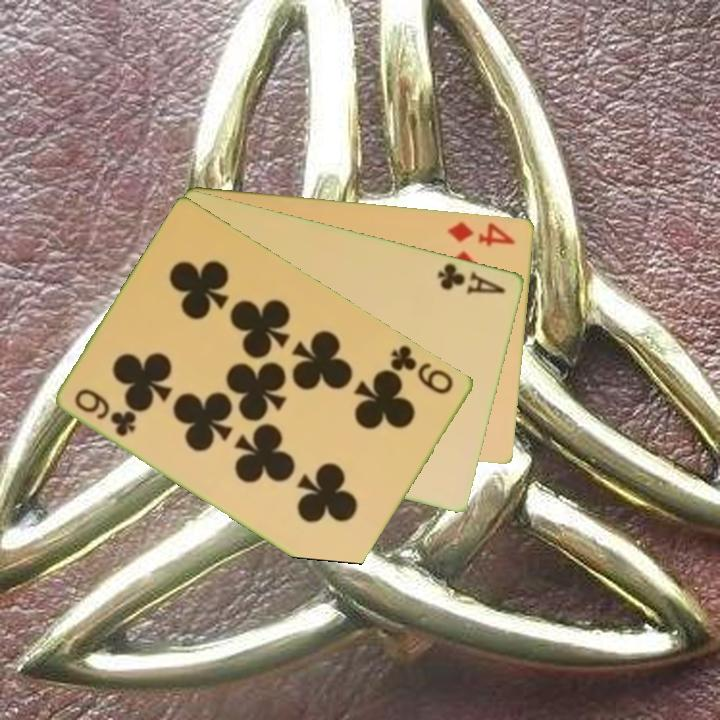4d: (445, 218, 519, 249)
9c: (387, 341, 457, 397), (71, 384, 140, 440)
Ac: (434, 259, 509, 297)
